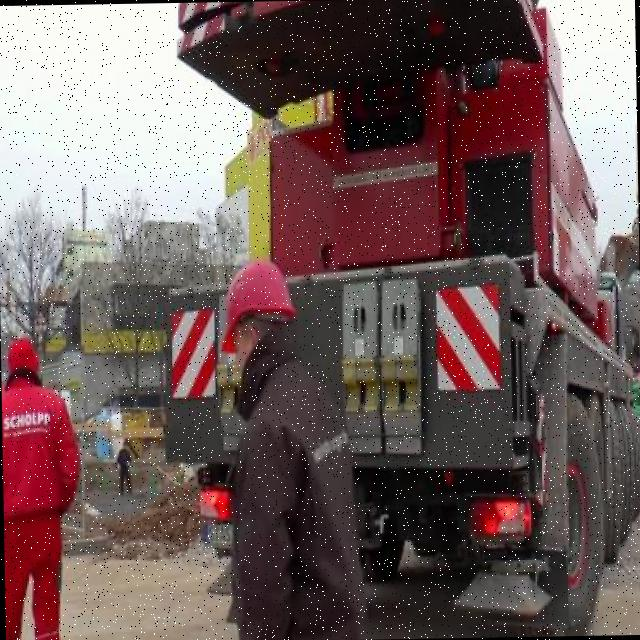Mobile Crane: (156, 0, 640, 640)
